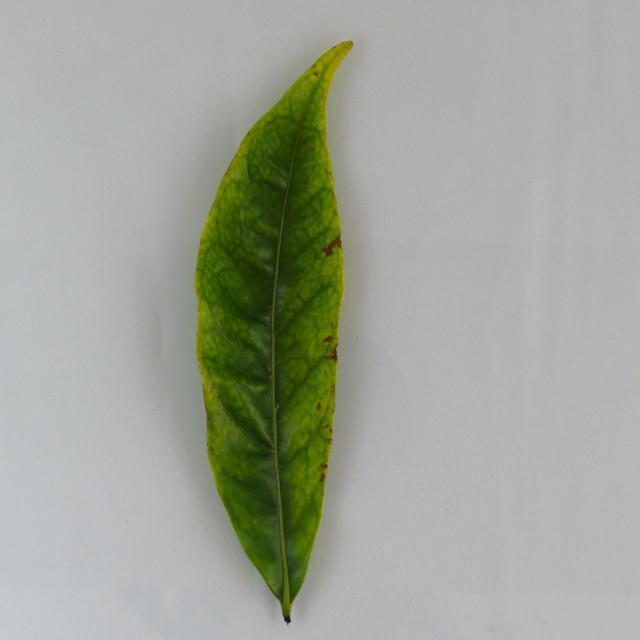DeficienciaNutricional-Manganeso: (195, 42, 352, 623)
